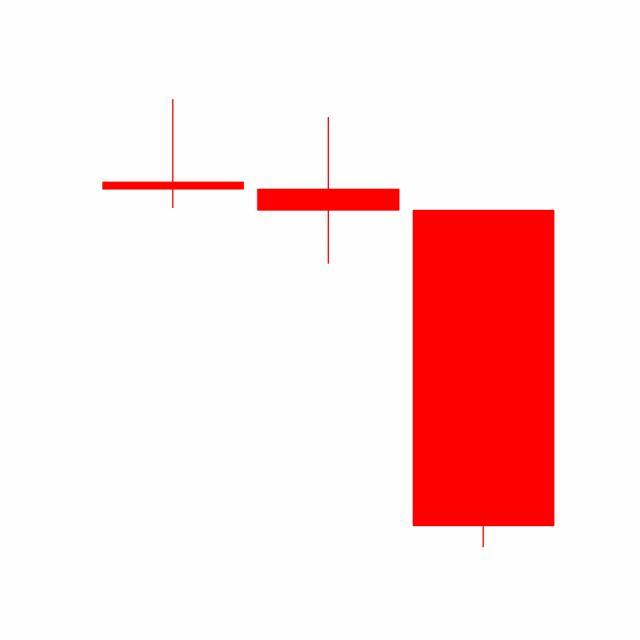Spinning Top: (250, 116, 407, 267)
